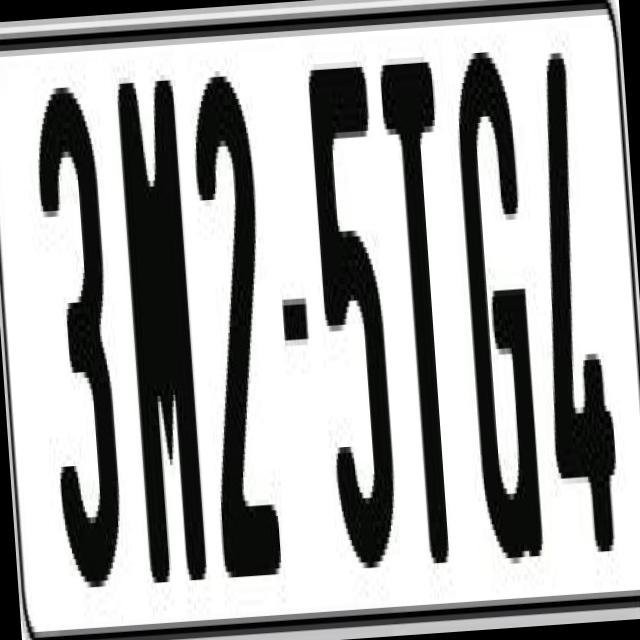2: (186, 68, 280, 607)
3: (28, 85, 124, 612)
4: (526, 33, 623, 548)
5: (304, 54, 406, 558)
G: (451, 32, 545, 542)
M: (114, 68, 206, 577)
T: (374, 50, 466, 559)
